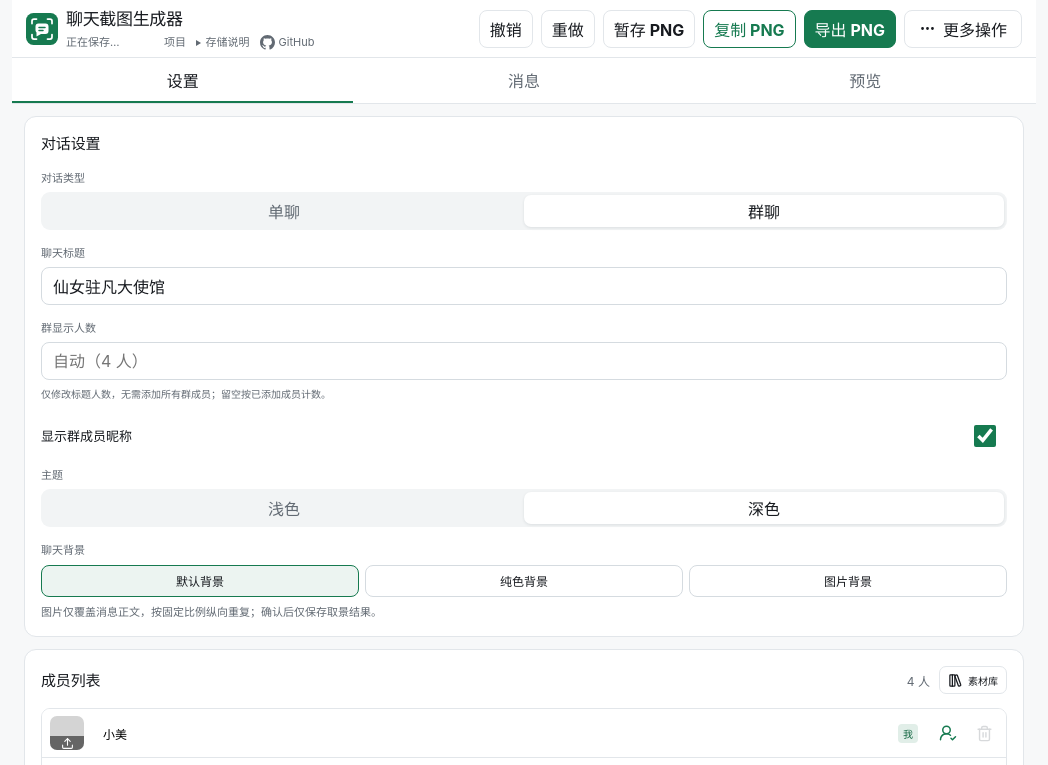
Scenario: App › updates the local-save status after editing and persists the draft
This screenshot has width=1048, height=765.
Replace the text in the field labelled "聊天标题" with "本地保存测试" at (524, 286), box [41,267,1007,305]
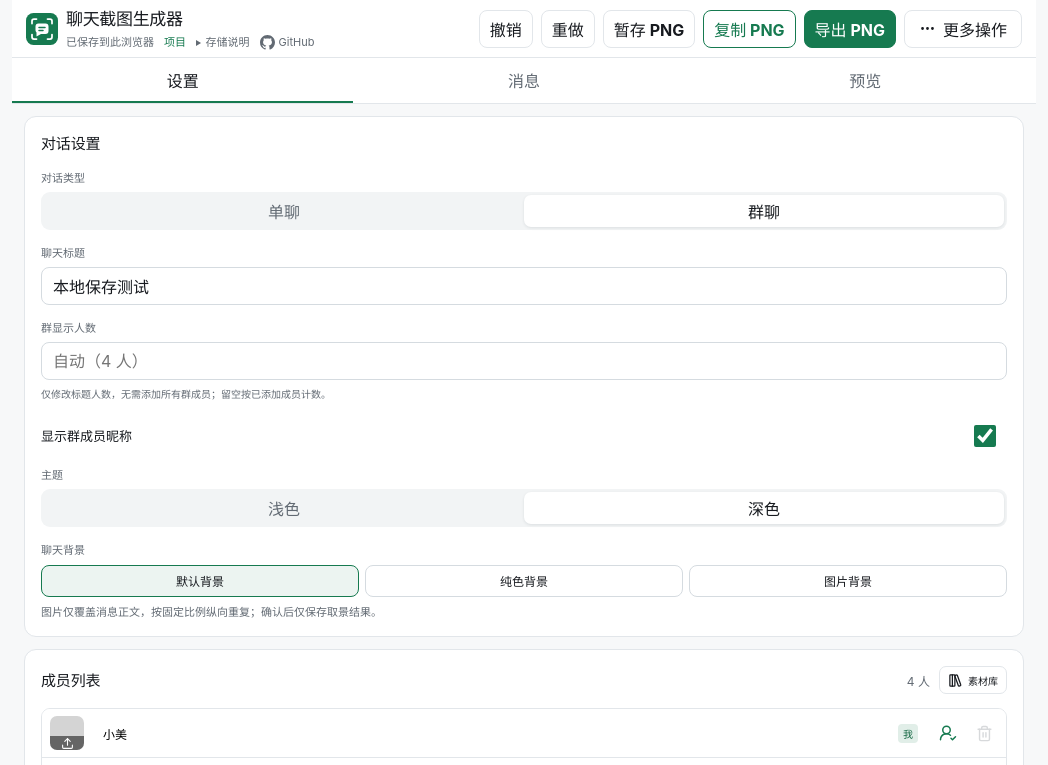
Expected: the text "已保存到此浏览器" is shown, [66,32,154,52]
